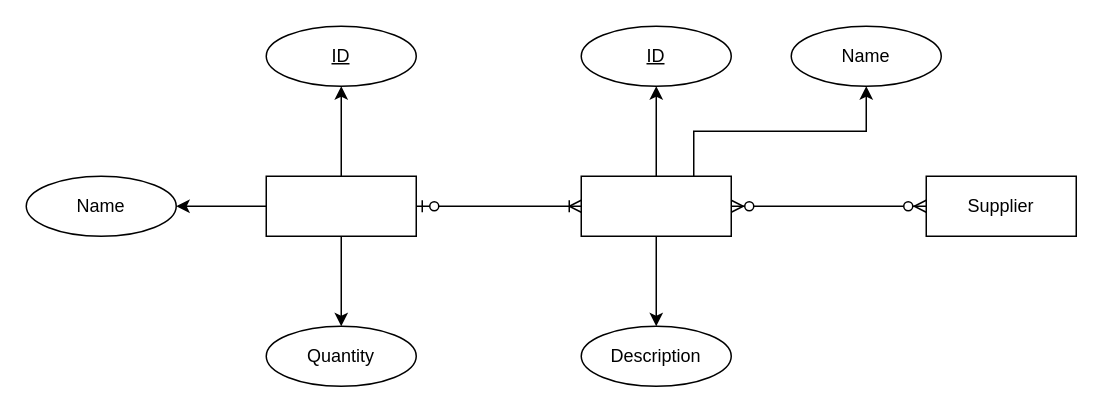
Some shapes in this 1103 by 413 pixel diagram are drawn without their labels. The shapes that lost their labels are listed below. From the top down, each one's centre as x and y in pixels, then its label:
pixel 340 205: Product
pixel 655 205: Component
